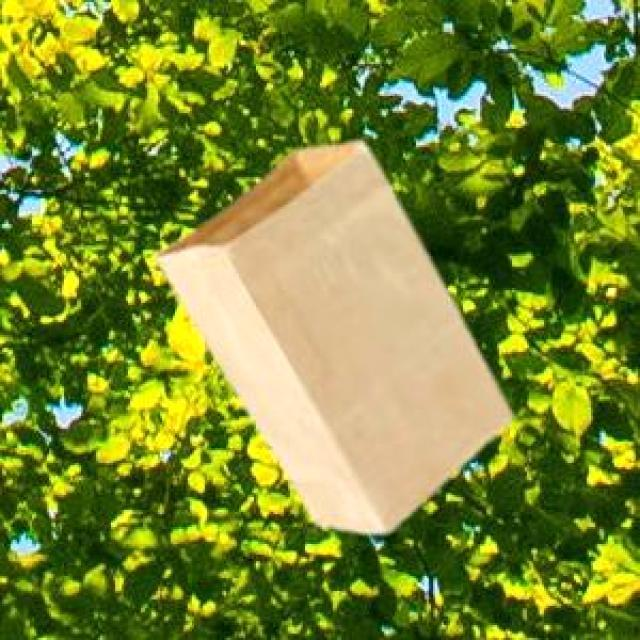Paper_Bag: (152, 140, 509, 530)
